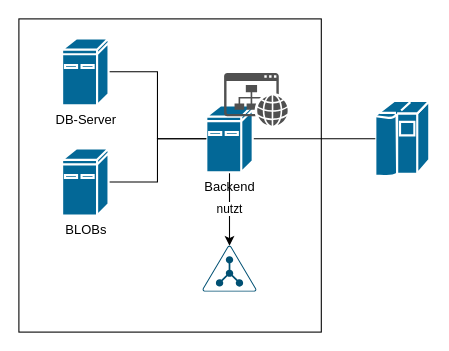
Some shapes in this 449 by 351 pixel diagram are drawn without their labels. The shapes that lost their labels are listed below. From the top down, each one's centre as x and y in pixels, then its label:
At (x=402, y=138): "User".
At (x=229, y=268): "LDAP".
